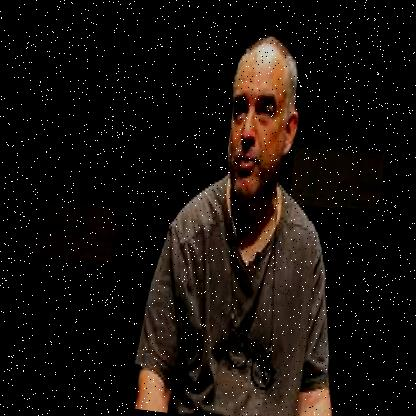sem_capacete: (214, 24, 310, 216)
sem_colete_refletivo: (125, 169, 358, 415)
